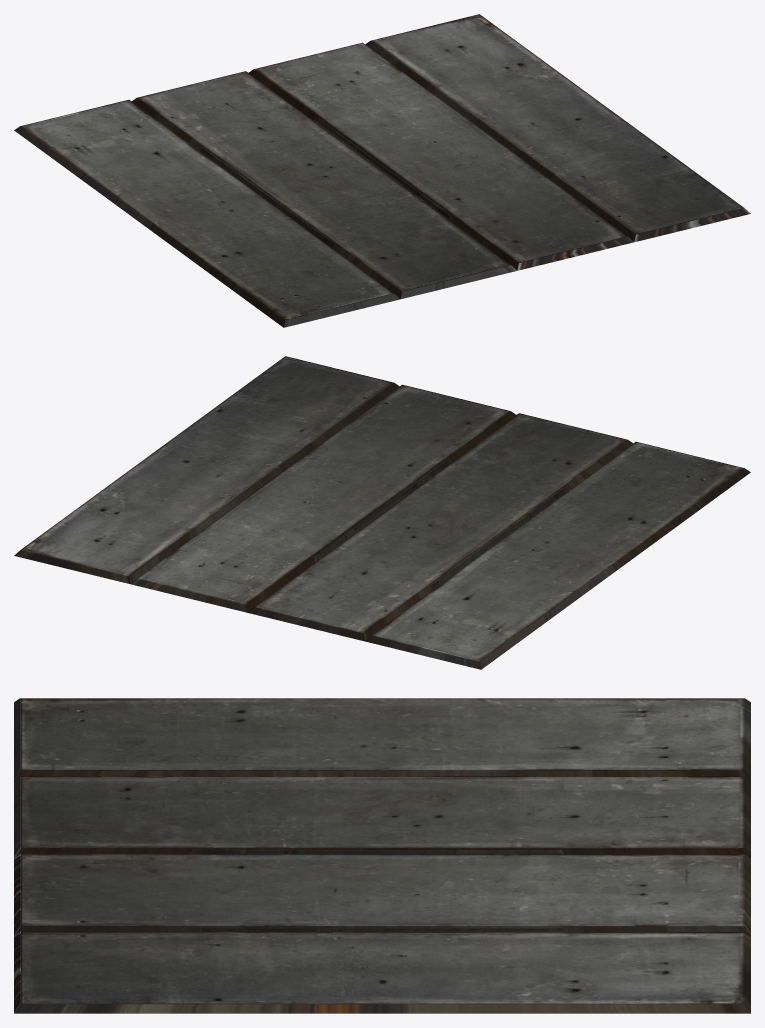
Rendered from Floors.FBX.
3 renders of one model, top to bottom at view 1: azimuth 30°, elevation 25°; view 2: azimuth 150°, elevation 25°; view 3: azimuth 270°, elevation 25°, orthographic. The views are drawn at different scales.
Visible parts, largest first — view 1: Floor_01_3x0x3, Floor_02_1.5x0x1.5, Floor_03_1.5x0x1.5; view 2: Floor_01_3x0x3, Floor_02_1.5x0x1.5, Floor_03_1.5x0x1.5; view 3: Floor_01_3x0x3, Floor_02_1.5x0x1.5, Floor_03_1.5x0x1.5.
Boxes of the visible parts, x1,y1,x2,y2 form: Floor_01_3x0x3: (14, 14, 750, 327); Floor_02_1.5x0x1.5: (199, 92, 563, 248); Floor_03_1.5x0x1.5: (207, 94, 560, 243); Floor_01_3x0x3: (14, 356, 750, 669); Floor_02_1.5x0x1.5: (201, 434, 565, 590); Floor_03_1.5x0x1.5: (202, 444, 560, 590); Floor_01_3x0x3: (14, 698, 750, 1013); Floor_02_1.5x0x1.5: (200, 850, 564, 931); Floor_03_1.5x0x1.5: (201, 850, 562, 931).
Bounding box in the file's own units: 3 × 0.03 × 3.
